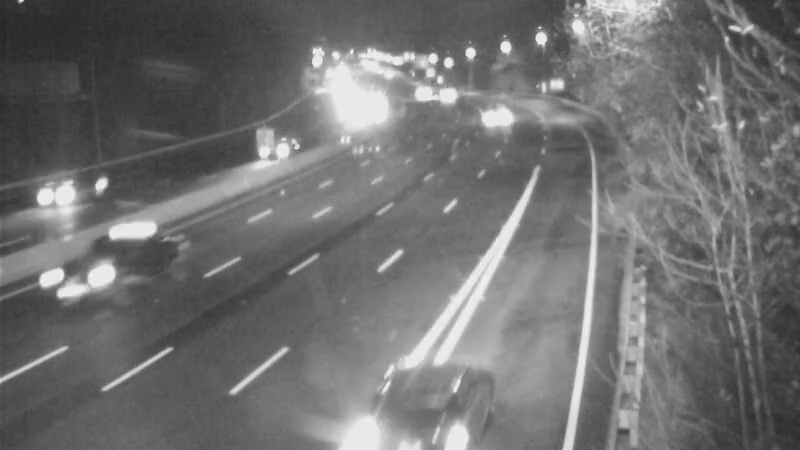vehicle: (363, 354, 473, 450), (55, 231, 135, 311), (19, 155, 99, 235), (238, 110, 318, 190), (399, 68, 449, 118), (420, 67, 470, 117), (468, 85, 518, 135)
